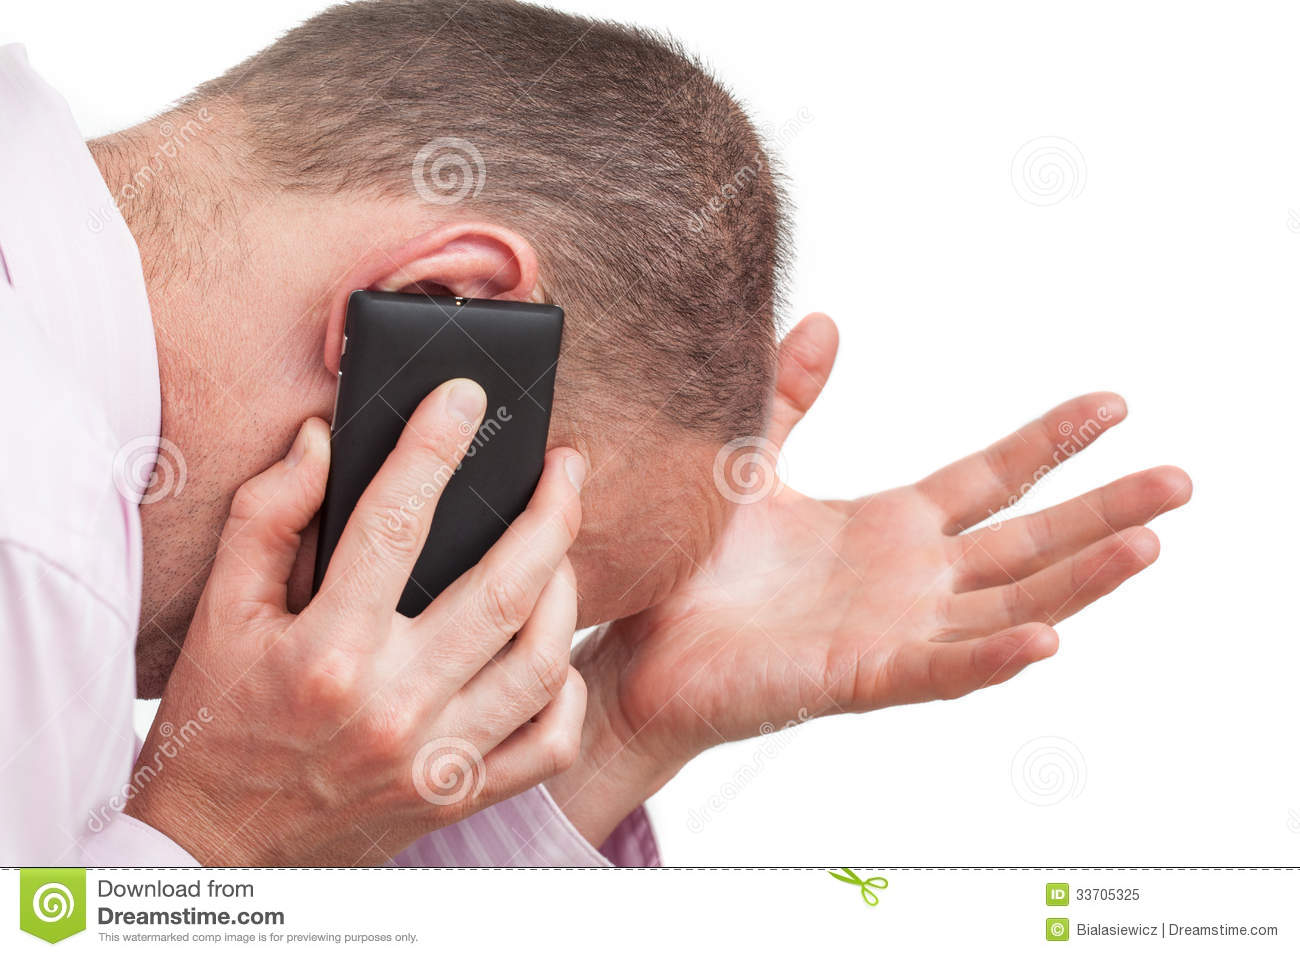phone: (306, 288, 566, 662)
